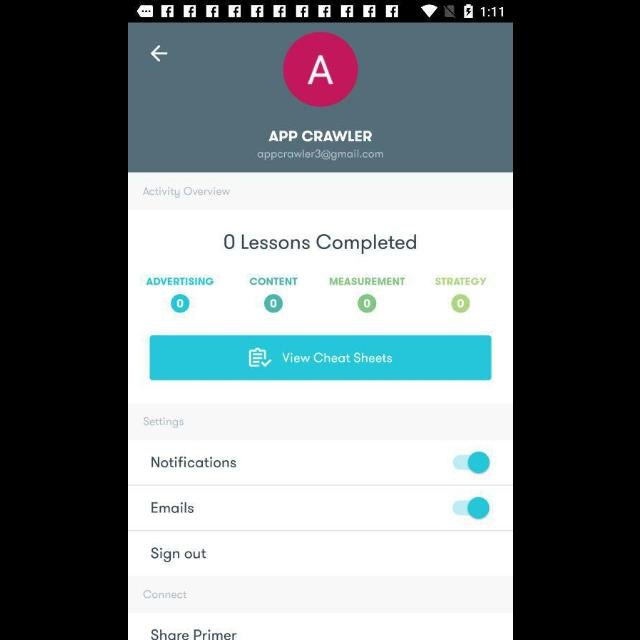icon: (149, 44, 167, 64)
image: (282, 32, 358, 108), (450, 294, 470, 314), (356, 294, 376, 314), (263, 294, 283, 314), (170, 294, 190, 314)
switch: (452, 496, 490, 520), (452, 452, 490, 474)
text: (224, 233, 416, 255), (256, 149, 384, 161), (268, 130, 372, 144), (142, 186, 230, 198), (151, 628, 237, 640), (150, 456, 236, 468), (150, 547, 206, 563), (328, 278, 406, 286), (142, 416, 184, 429), (146, 278, 214, 286), (150, 502, 193, 514), (248, 276, 298, 286), (142, 589, 188, 599), (435, 278, 487, 286)
textbutton: (149, 336, 491, 380)
uppertaskbar: (128, 1, 512, 23)
